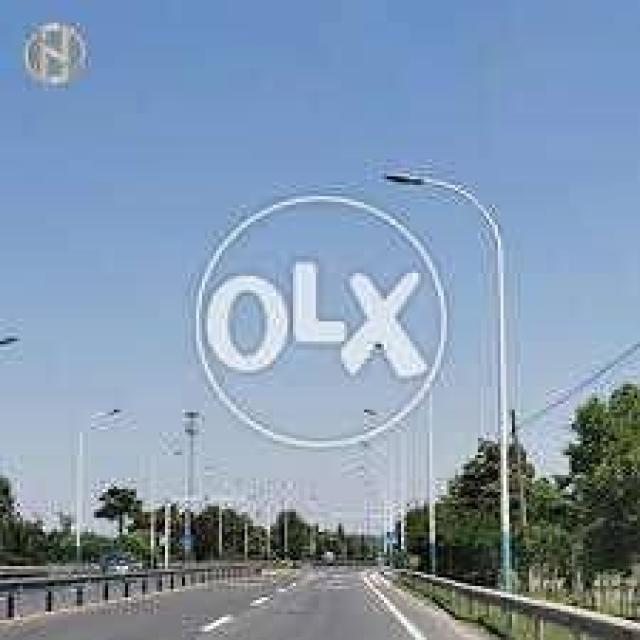Street Light: (381, 168, 518, 586)
